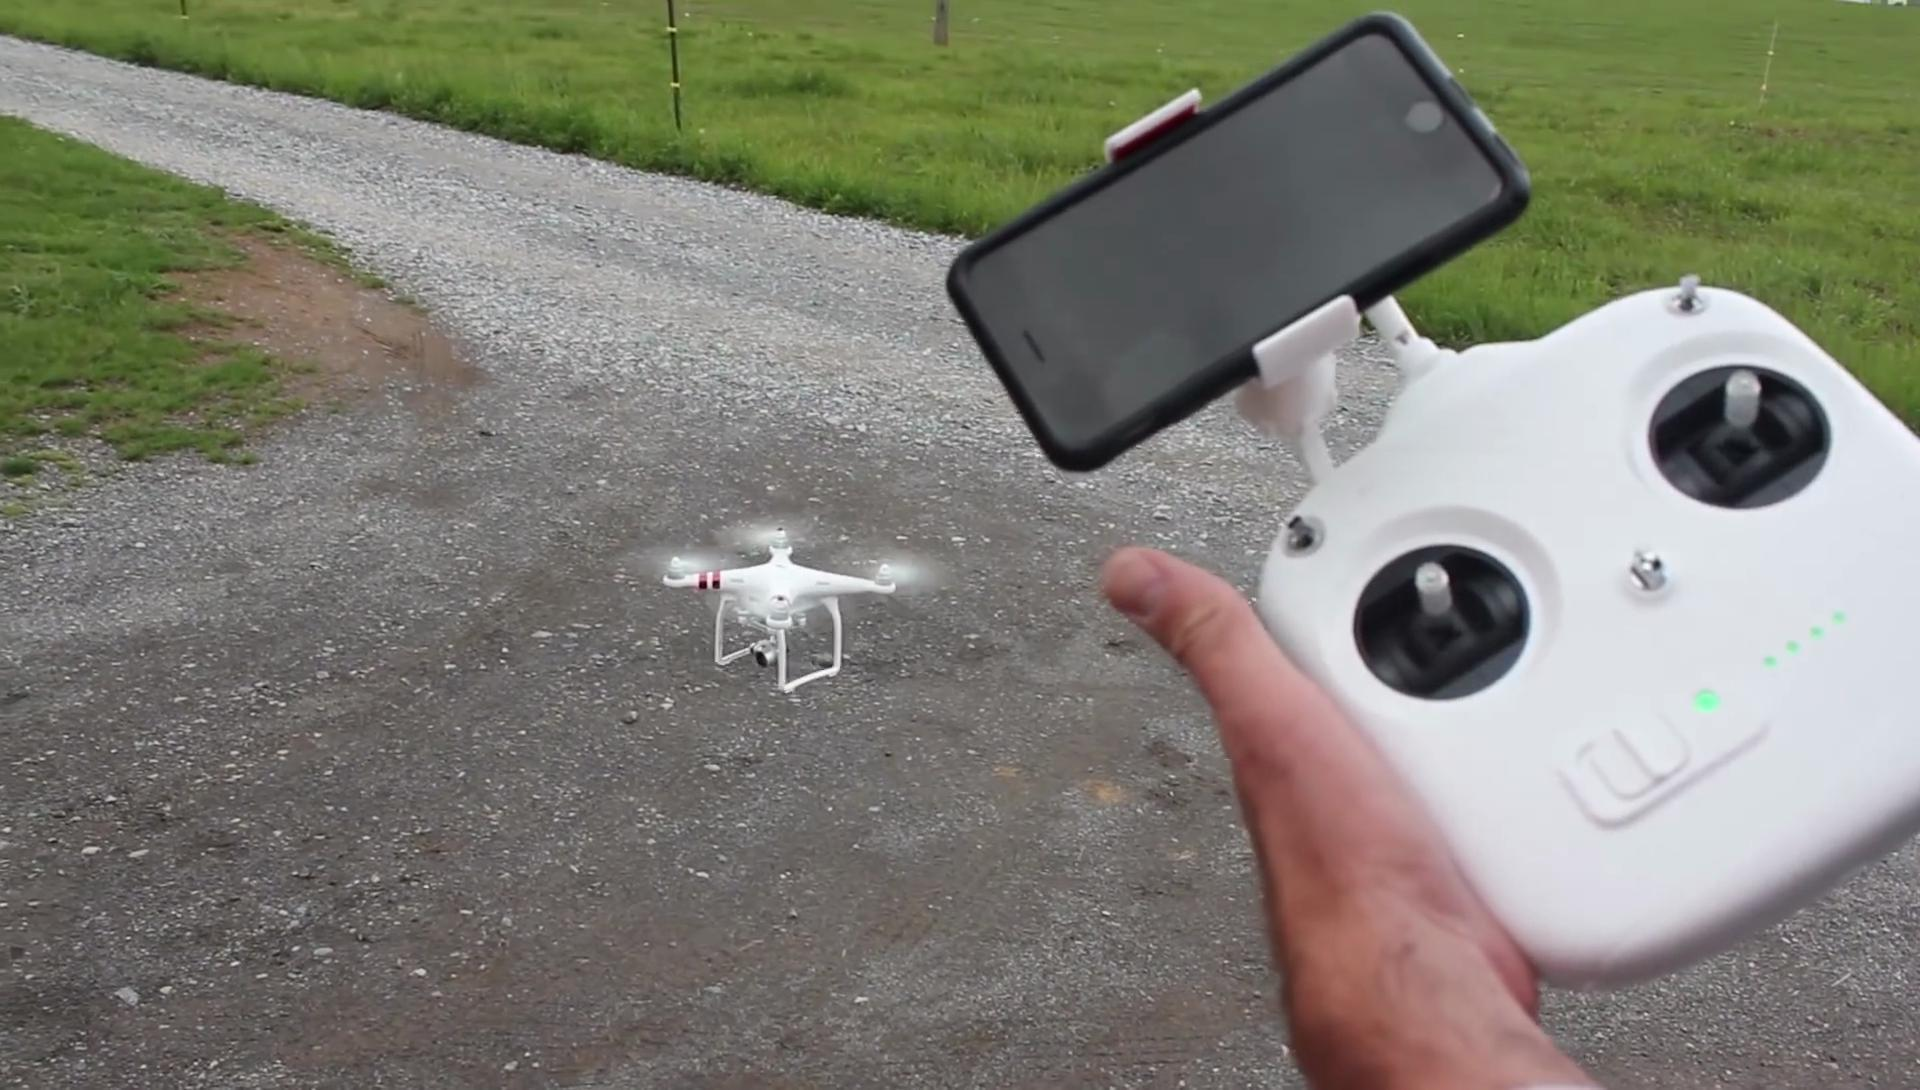drone: (651, 515, 923, 693)
